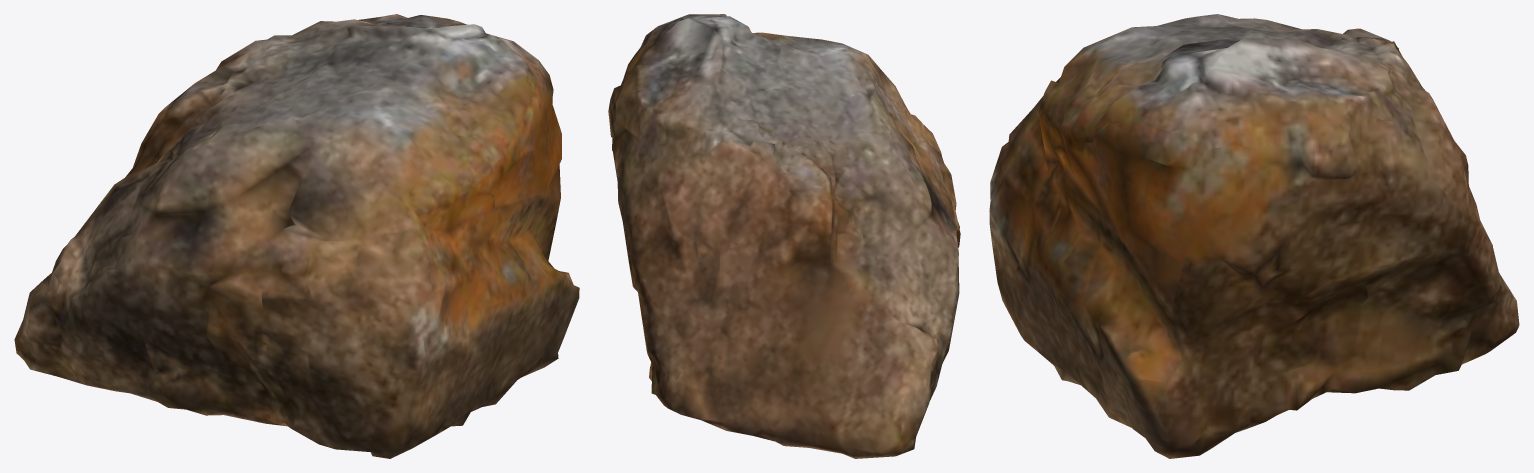
The model's file is rocher_granite_lod1.glb.
The picture shows the model from 3 angles, left to right: view 1: azimuth 30°, elevation 25°; view 2: azimuth 150°, elevation 25°; view 3: azimuth 270°, elevation 25°; orthographic projection. The views are drawn at different scales.
Parts seen in each view (by area): view 1: boulder_04; view 2: boulder_04; view 3: boulder_04.
Part boxes in pixels (left/top/right/bottom): boulder_04: left=14, top=14, right=579, bottom=458; boulder_04: left=608, top=14, right=960, bottom=458; boulder_04: left=989, top=14, right=1519, bottom=458.
Bounding box in the file's own units: 2.52 × 1.9 × 2.48.
1 material, 1 textured.
